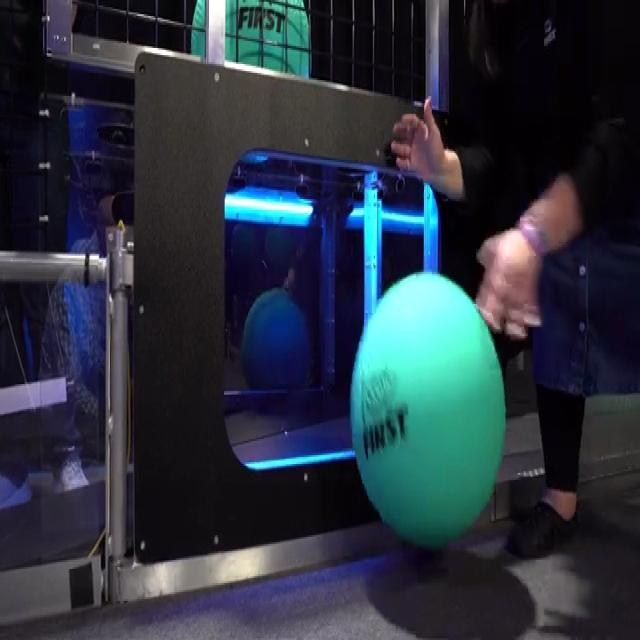Algae: (348, 268, 507, 548), (191, 0, 312, 82)
